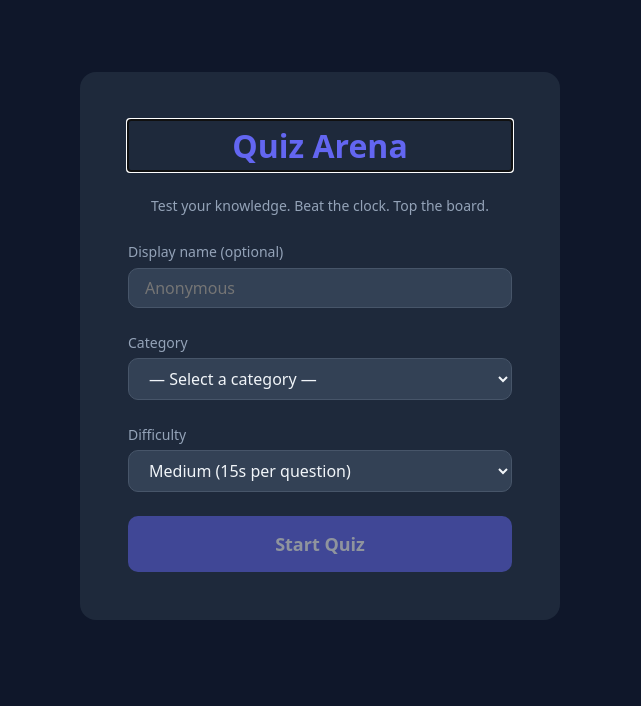
Test: Quiz flow › shows leaderboard on results screen
The width and height of the screenshot is (641, 706).
Select "General Knowledge" in the dropdown labelled "Category" at (320, 379), box [128,358,512,400]
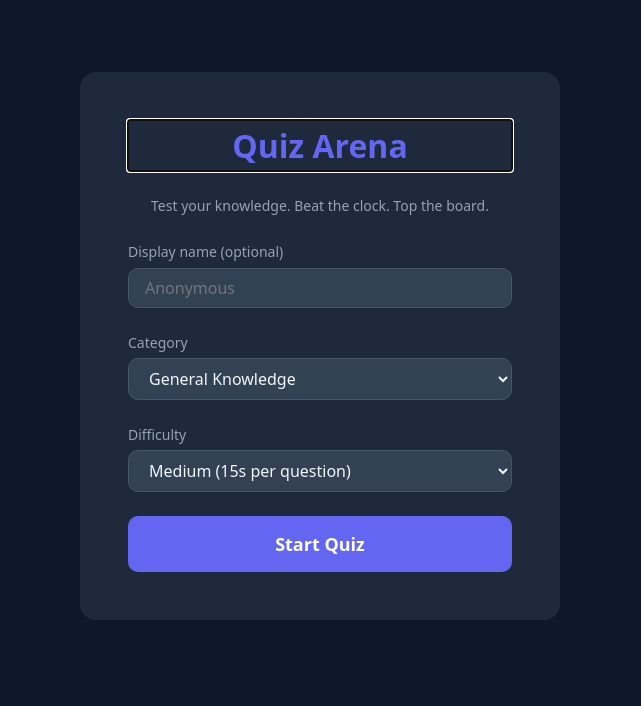
Click the button "Start Quiz" at (320, 544), box [128,516,512,572]
Wait 100200 ms
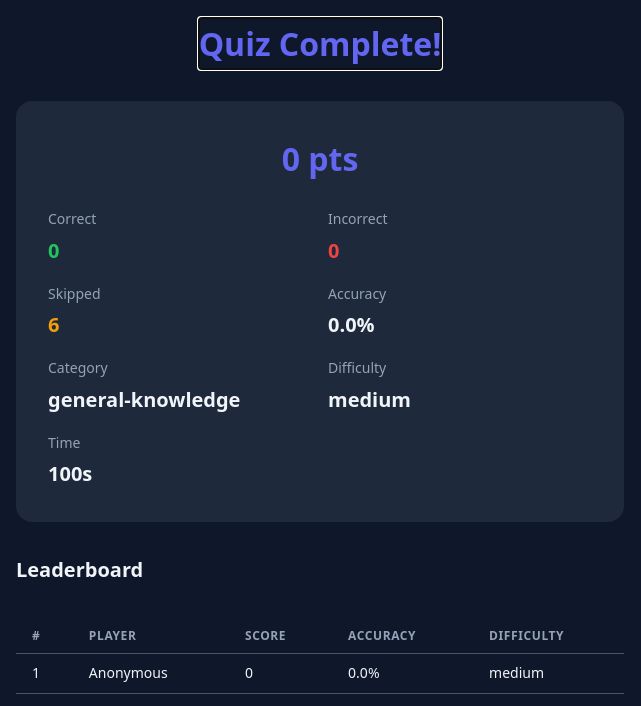
Check: the heading "Quiz Complete!" is shown, box [199,18,441,69]
Check: the table named "leaderboard" is shown, box [16,618,624,694]
